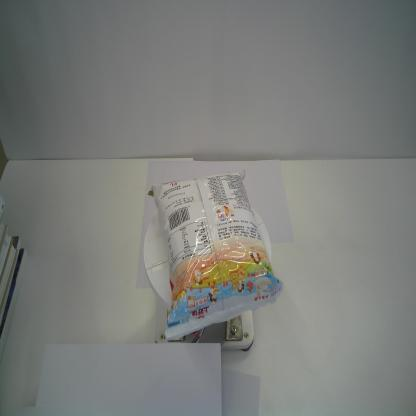Puffed Food: (146, 168, 284, 341)
